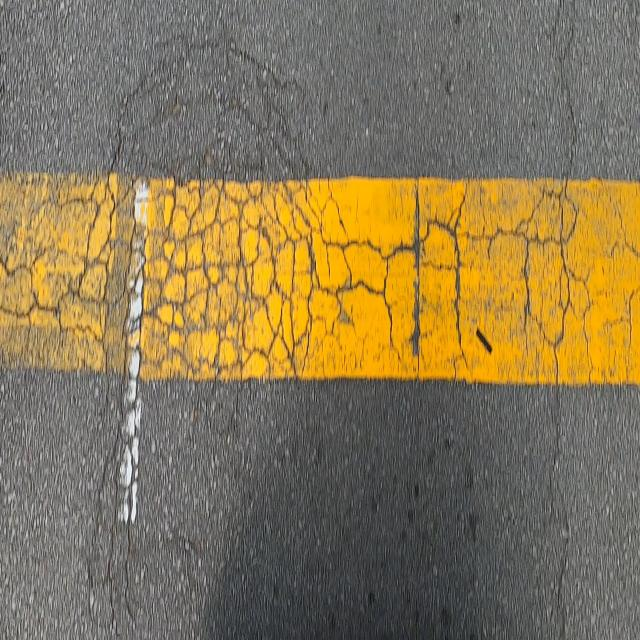Retak-Buaya: (0, 35, 640, 625)
Retak-Memanjang: (544, 0, 585, 182), (548, 383, 574, 637)
